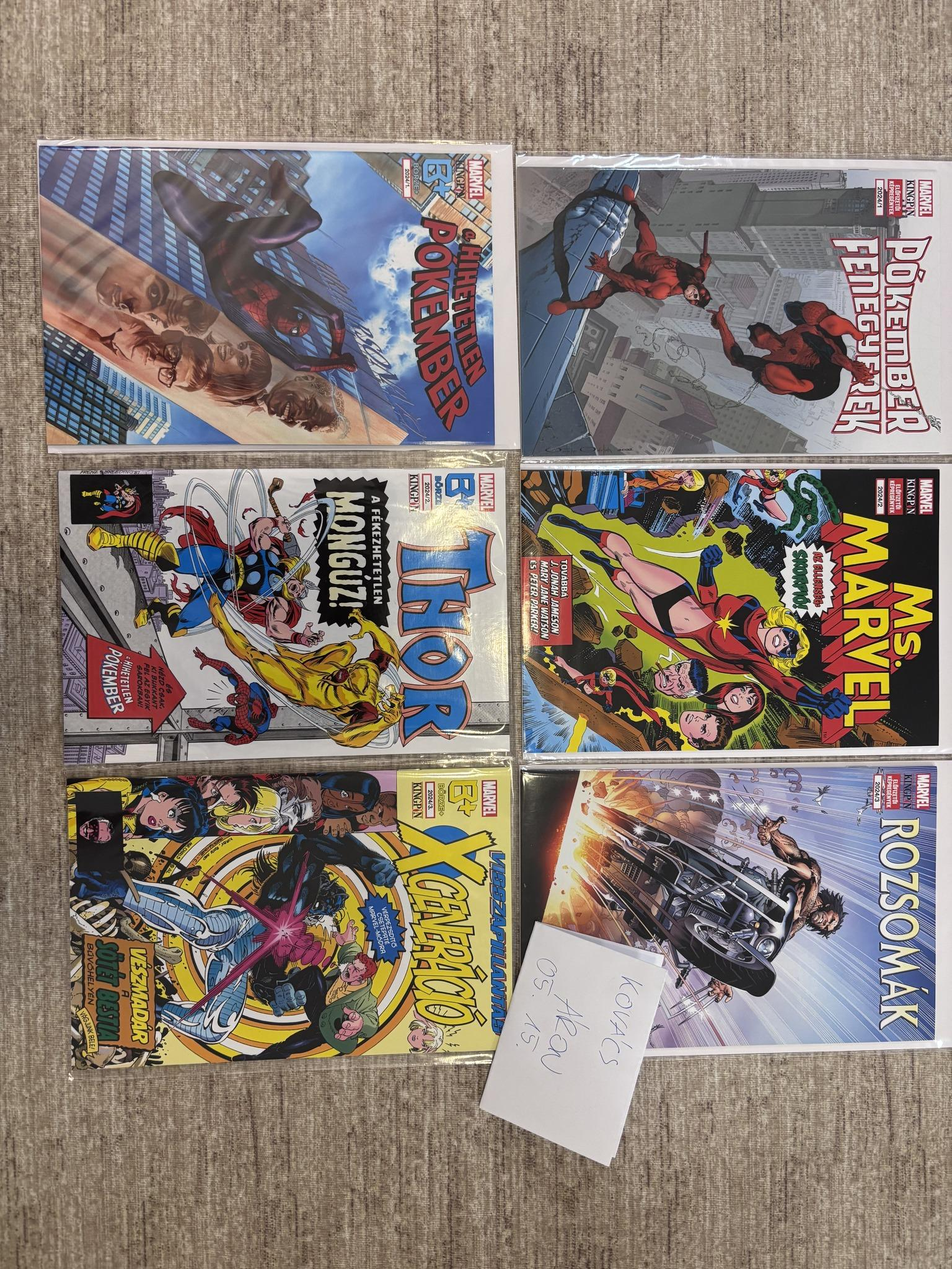comic: (38, 141, 518, 448), (64, 763, 518, 1068), (58, 461, 511, 764), (516, 155, 952, 458), (520, 760, 952, 1054), (521, 465, 948, 754)
